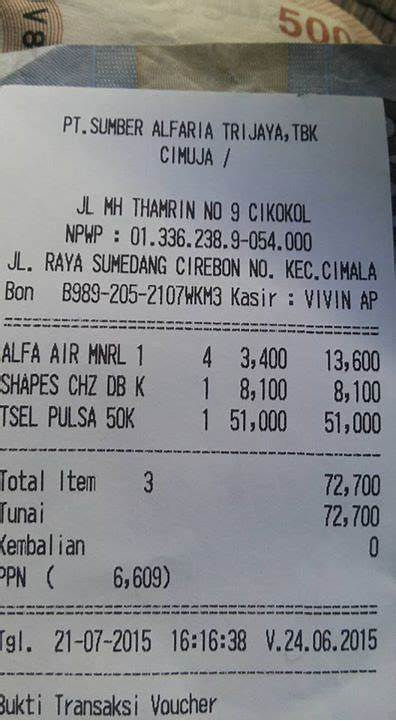total belanja: (1, 458, 386, 502)
